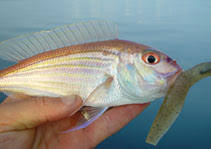Ikan Kerisi: (1, 41, 182, 105)
